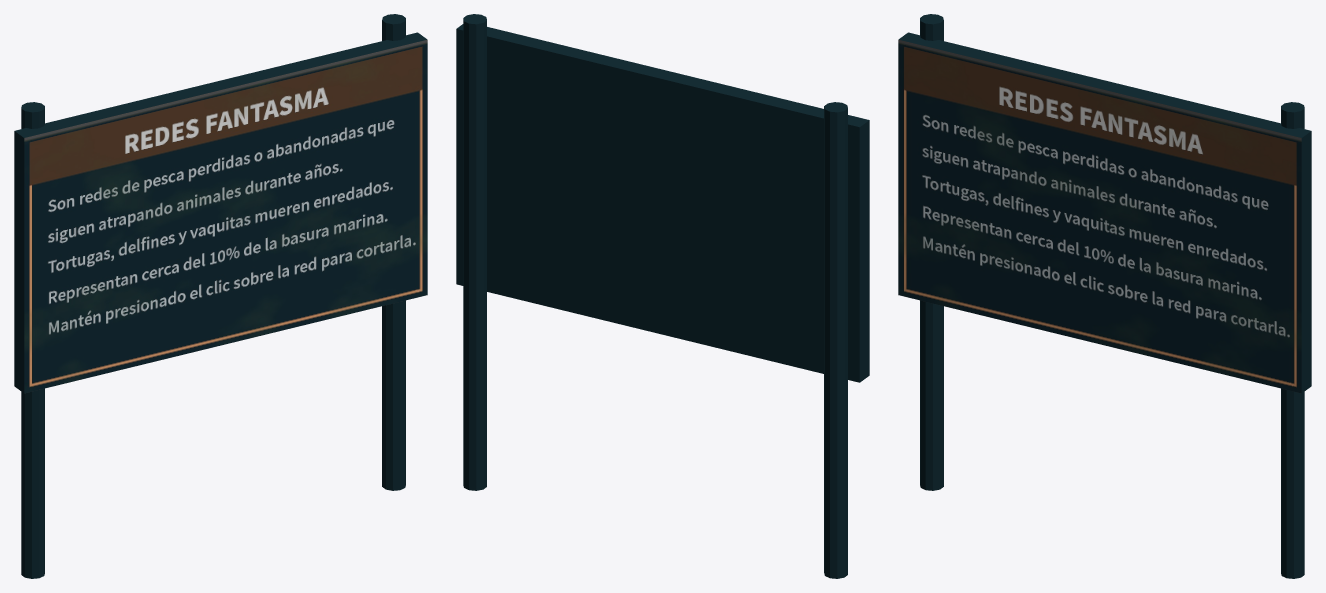
The model's file is letrero_redes.fbx.
3 renders of one model, left to right at view 1: azimuth 30°, elevation 25°; view 2: azimuth 150°, elevation 25°; view 3: azimuth 330°, elevation 25°, orthographic.
Parts seen in each view (by area): view 1: letrero_redes; view 2: letrero_redes; view 3: letrero_redes.
Part boxes in pixels (<box>): letrero_redes: <box>14,14,427,578</box>; letrero_redes: <box>456,14,869,578</box>; letrero_redes: <box>898,14,1311,578</box>.
Bounding box in the file's own units: 1.9 × 2.1 × 0.15.
1 material, 1 textured.
